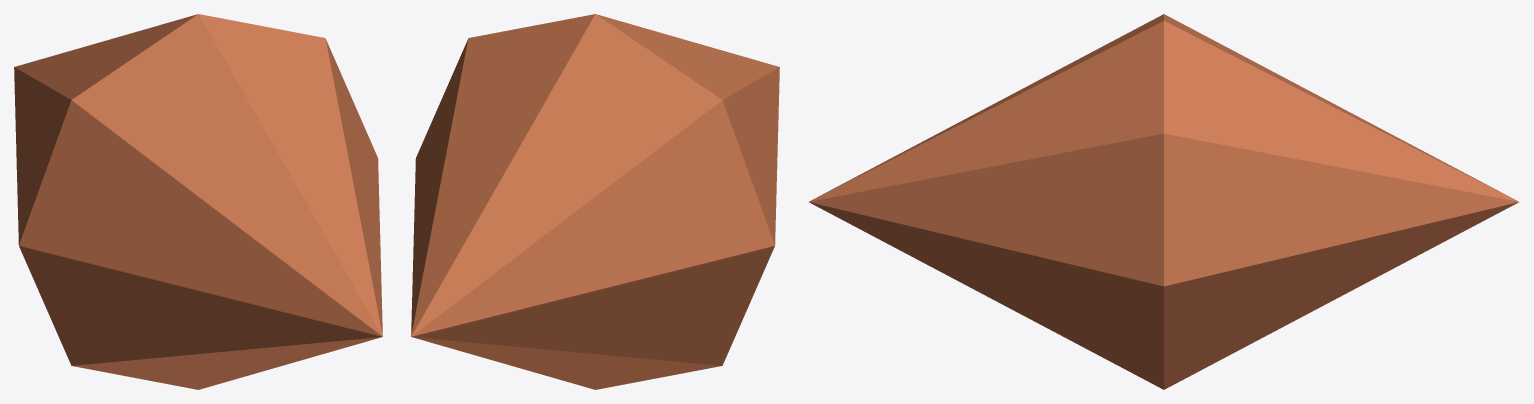
The model's file is fire_elemental_stone_blockout.glb.
The picture shows the model from 3 angles, left to right: view 1: azimuth 30°, elevation 25°; view 2: azimuth 150°, elevation 25°; view 3: azimuth 270°, elevation 25°; orthographic projection. The views are drawn at different scales.
Visible parts, largest first — view 1: fire_elemental_stone_blockout_0; view 2: fire_elemental_stone_blockout_0; view 3: fire_elemental_stone_blockout_0.
Boxes of the visible parts, box(x1,y1,x2,y2) form: fire_elemental_stone_blockout_0: box(14, 14, 382, 389); fire_elemental_stone_blockout_0: box(411, 14, 779, 389); fire_elemental_stone_blockout_0: box(809, 14, 1518, 389).
Size of the model in its own units: 0.9 by 0.9 by 1.6.
